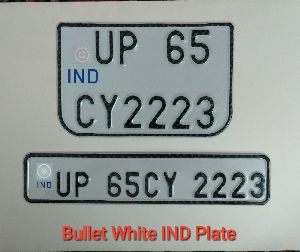number_plate: (56, 20, 234, 139), (23, 151, 271, 206)
